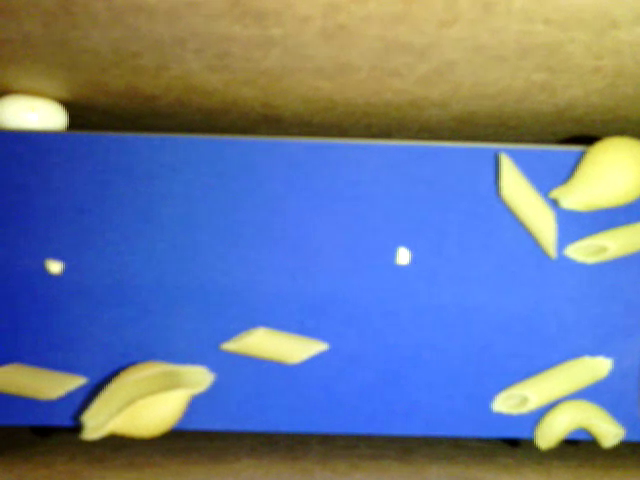elbow: (533, 399, 625, 451)
penne: (491, 353, 613, 414), (498, 149, 558, 261), (220, 325, 330, 366), (563, 221, 639, 266), (1, 363, 89, 401)
shell: (78, 360, 215, 442), (548, 136, 639, 211)
